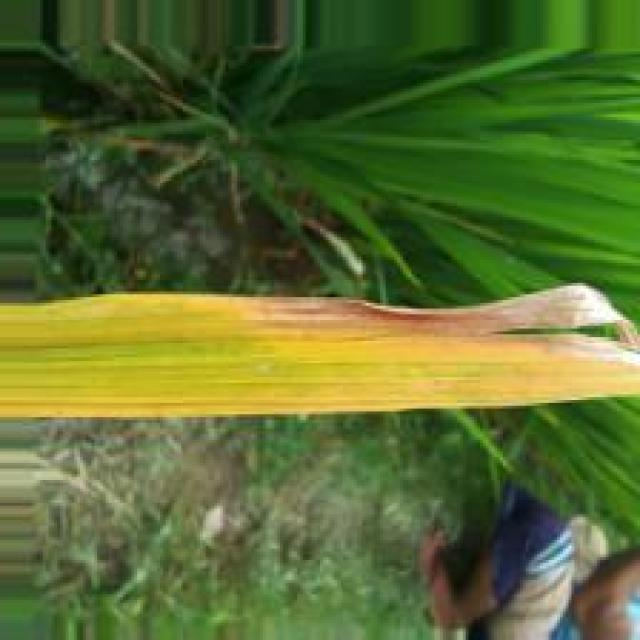Leaf_Scald: (255, 297, 484, 336)
